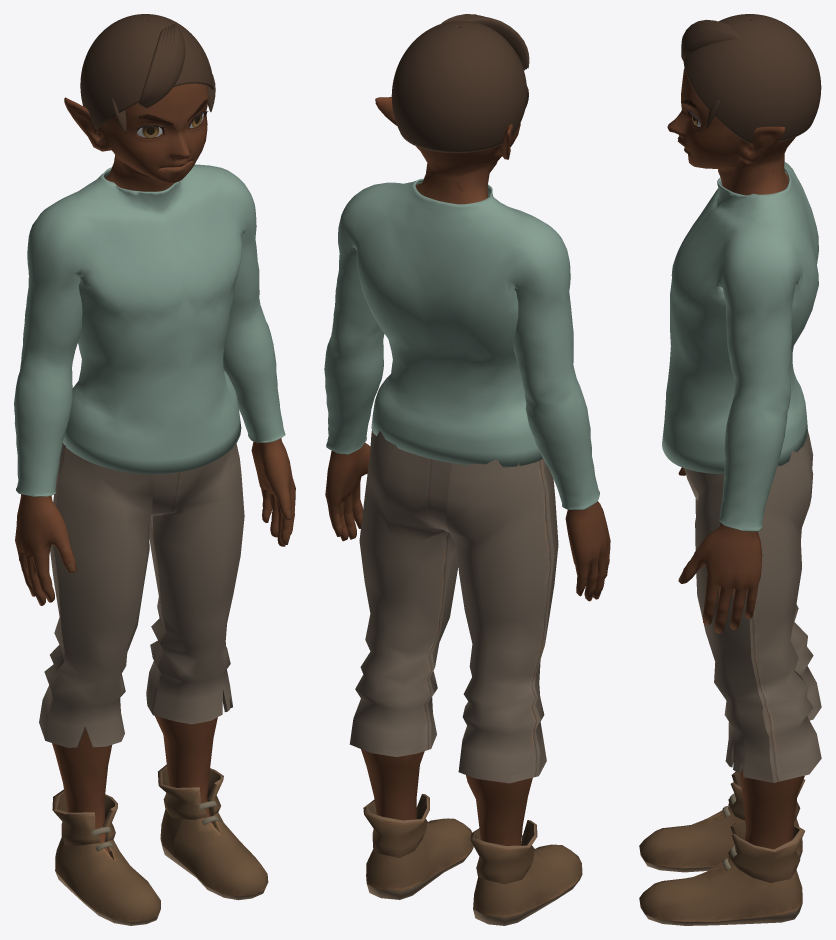
The model's file is boy-dark.glb.
The picture shows the model from 3 angles, left to right: view 1: azimuth 30°, elevation 25°; view 2: azimuth 150°, elevation 25°; view 3: azimuth 270°, elevation 25°; orthographic projection.
Visible parts, largest first — view 1: boy • Plain shirt • neutral sage, boy • Pant_043__Mt_Lower_043, boy • continuous skin, Hair • short • fitted crown, Hair • short • side sweep 0, Hair • short • side sweep 4; view 2: boy • Pant_043__Mt_Lower_043, boy • Plain shirt • neutral sage, boy • continuous skin, Hair • short • fitted crown, Hair • short • side sweep 4; view 3: boy • Plain shirt • neutral sage, boy • Pant_043__Mt_Lower_043, boy • continuous skin, Hair • short • fitted crown, Hair • short • side sweep 0.
Boxes of the visible parts, x1,y1,x2,y2 form: boy • Plain shirt • neutral sage: (14,164,285,496); boy • Pant_043__Mt_Lower_043: (39,443,268,925); boy • continuous skin: (15,83,295,854); Hair • short • fitted crown: (80,14,213,129); Hair • short • side sweep 0: (145,24,185,108); Hair • short • side sweep 4: (139,28,165,104); boy • Pant_043__Mt_Lower_043: (349,429,582,925); boy • Plain shirt • neutral sage: (324,178,599,509); boy • continuous skin: (325,97,610,845); Hair • short • fitted crown: (391,21,526,153); Hair • short • side sweep 4: (461,17,529,68); boy • Plain shirt • neutral sage: (662,162,818,531); boy • Pant_043__Mt_Lower_043: (639,431,821,925); boy • continuous skin: (667,68,804,849); Hair • short • fitted crown: (683,14,821,143); Hair • short • side sweep 0: (681,27,739,61).
Size of the model in its own units: 0.5778 by 1.76 by 0.3363.
Materials: 11 (8 with a texture image).
